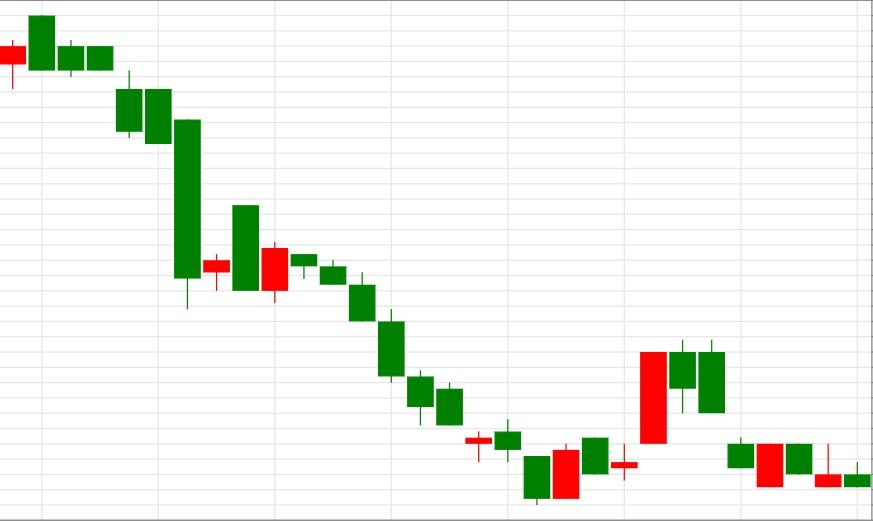bullish_engulfing_rise: (261, 243, 580, 506)
three_black_crows_fall: (203, 204, 376, 322)
